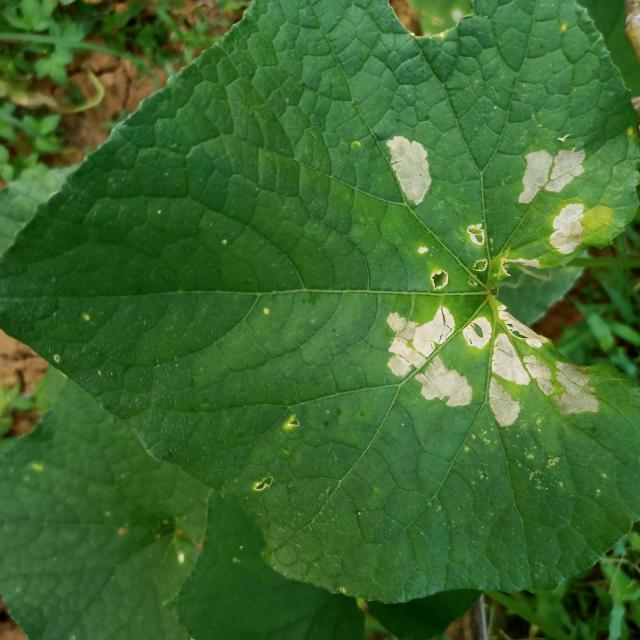disease_cucumber: (384, 298, 602, 432), (518, 145, 588, 206), (382, 132, 434, 208), (549, 201, 586, 257), (461, 221, 493, 273), (416, 247, 450, 291)
